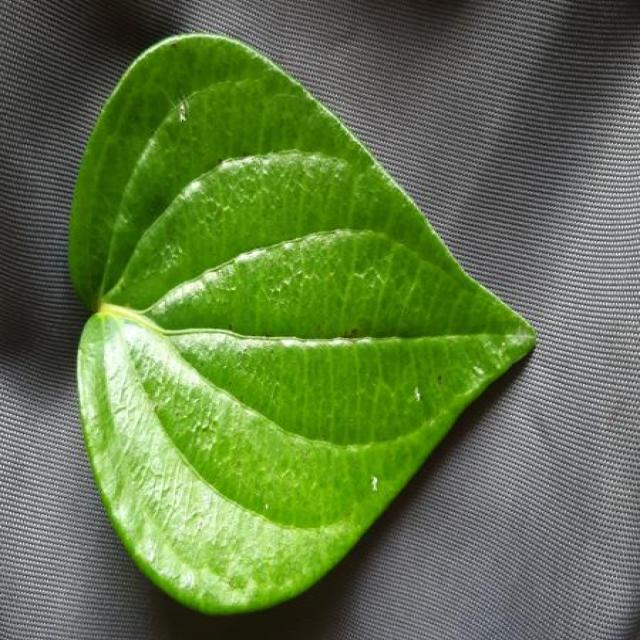betel: (70, 35, 535, 612)
